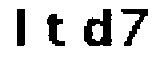7: (120, 6, 152, 48)
d: (82, 4, 115, 51)
l: (10, 4, 38, 51)
t: (44, 13, 69, 50)
